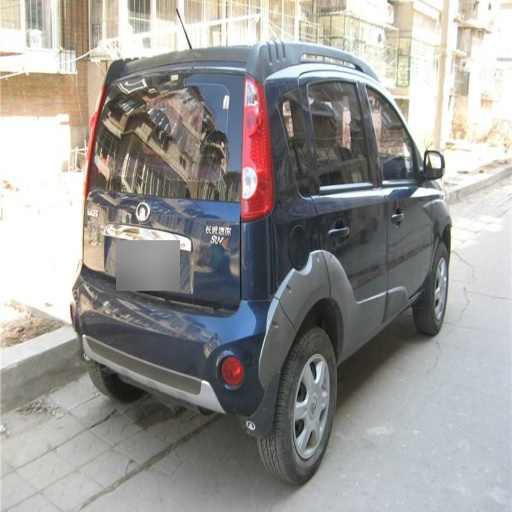back_right_door: (291, 76, 388, 346)
tailgate: (87, 109, 238, 309)
trunk: (115, 67, 246, 269), (86, 200, 236, 313)
